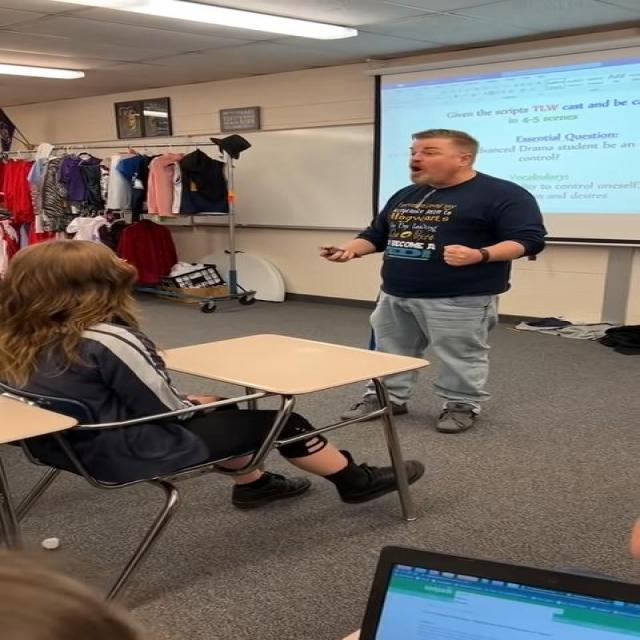NO-Mask: (407, 138, 455, 184)
